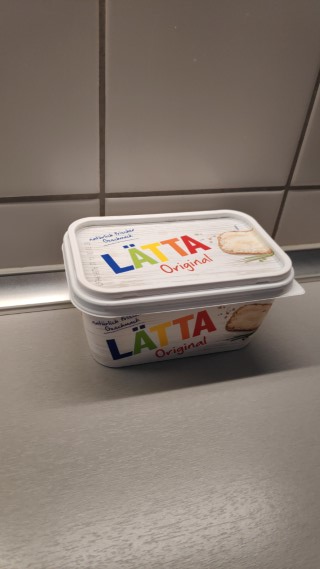laetta: (61, 208, 320, 368)
